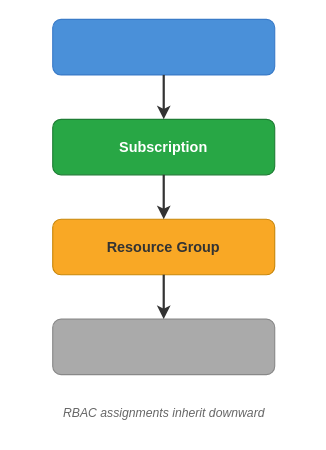
Image size: 326x450. Some labels were removed from this diagram. The centre of each missing label's shape, as x and y in pixels:
"Management Group" goes at [163,46].
"Resource" goes at [163,346].
